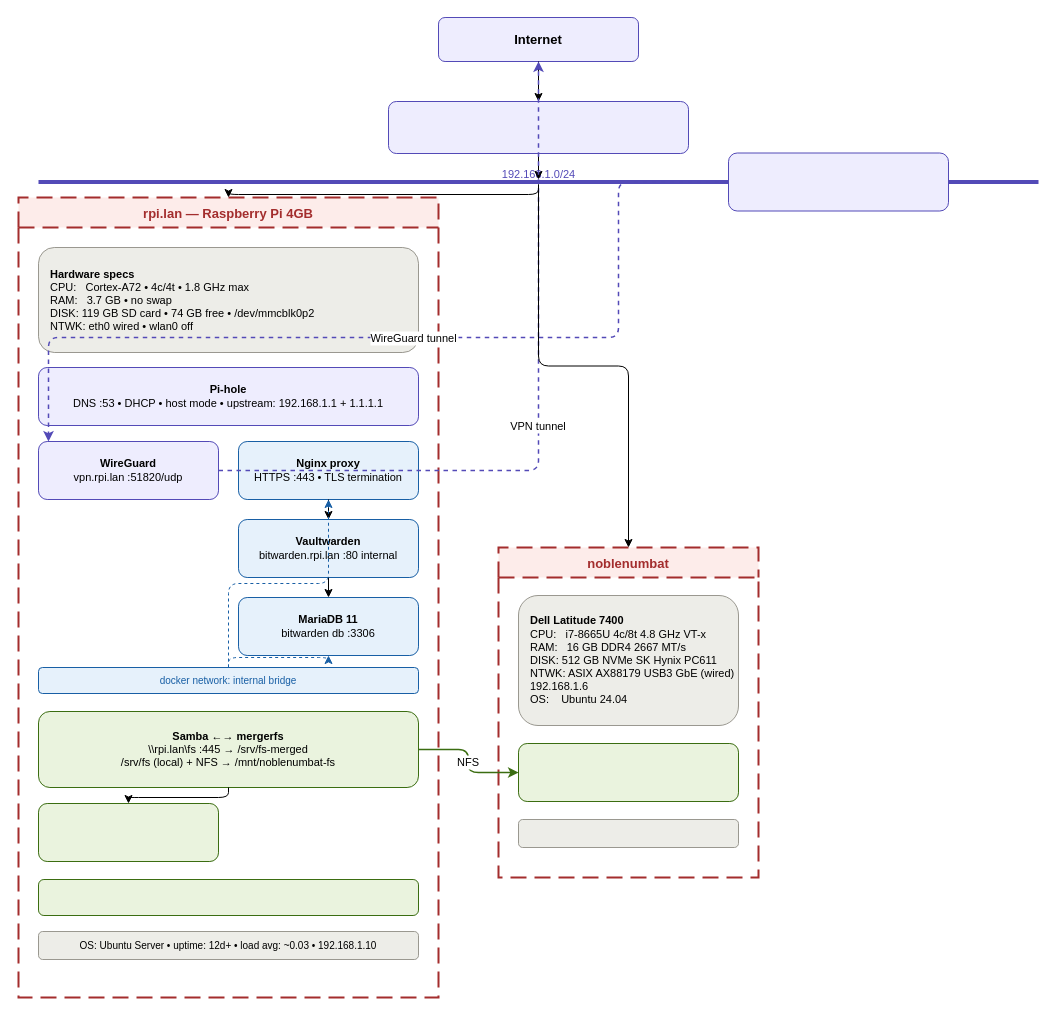
Image size: 1057x1016. Some labels were removed from this diagram. Each missing label, with the box of its shape:
Merged pool • 585 GB total • 470 GB available: (38, 878, 418, 916)
NFS server /srv/fs-ext • 397 GB free: (518, 742, 738, 802)
Router / gateway 192.168.1.1 • LAN: 192.168.1.0/24: (388, 100, 688, 154)
RPi SD card /srv/fs • 74 GB free: (38, 802, 218, 862)
VPN peers (max 5) 10.8.0.0/24 • DNS: 192.168.1.10: (728, 152, 948, 211)
WiFi only • suspend disabled: (518, 818, 738, 848)
